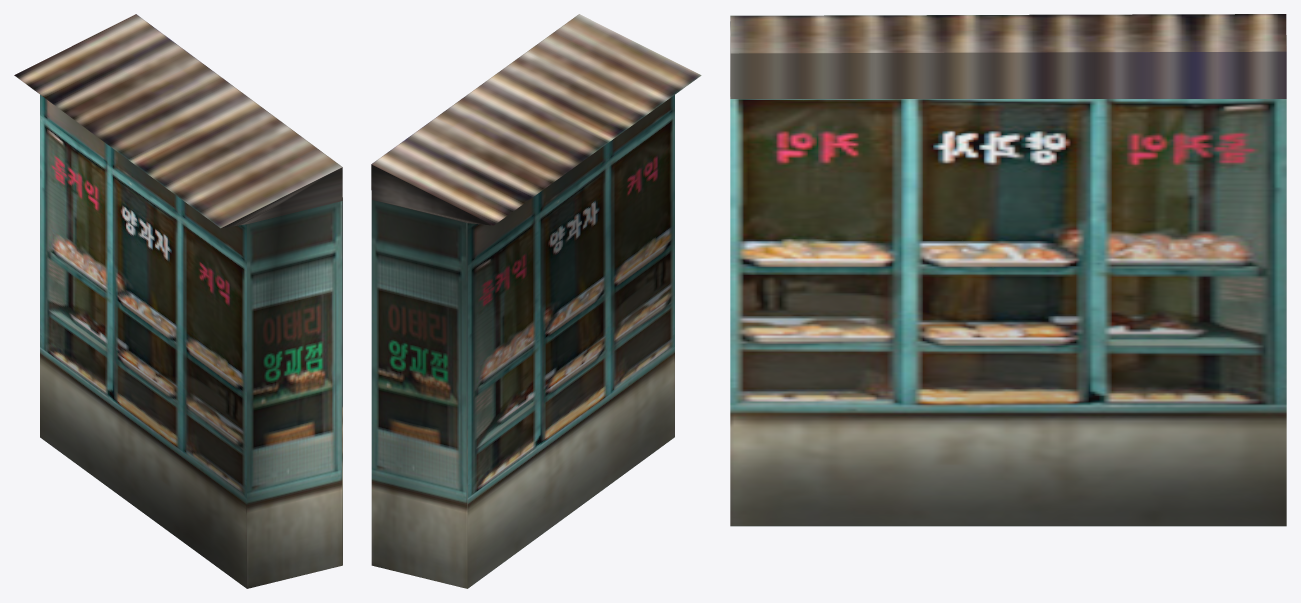
Rendered from yanggoa_window.FBX.
3 renders of one model, left to right at view 1: azimuth 30°, elevation 25°; view 2: azimuth 150°, elevation 25°; view 3: azimuth 270°, elevation 25°, orthographic. The views are drawn at different scales.
Parts seen in each view (by area): view 1: polySurface27; view 2: polySurface27; view 3: polySurface27.
Part boxes in pixels (box(x1,y1,x2,y2)): polySurface27: box(14, 14, 342, 588); polySurface27: box(371, 14, 701, 588); polySurface27: box(730, 14, 1286, 526).
Size of the model in its own units: 3.94 by 12.3 by 11.53.
